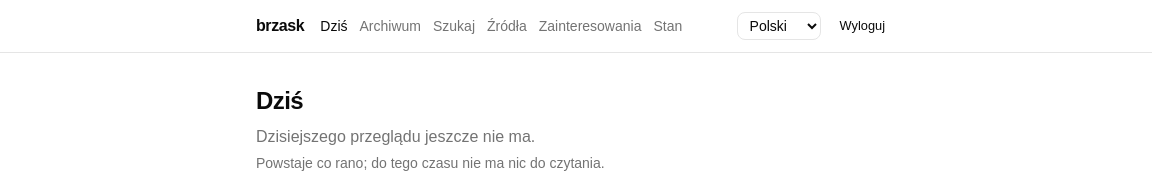
Test: logged in › speaks Polish
Expected: the heading "Dziś" is shown, [256,87,303,114]
Select "English" in the dropdown named "Język": (779, 26) [737,12,821,40]
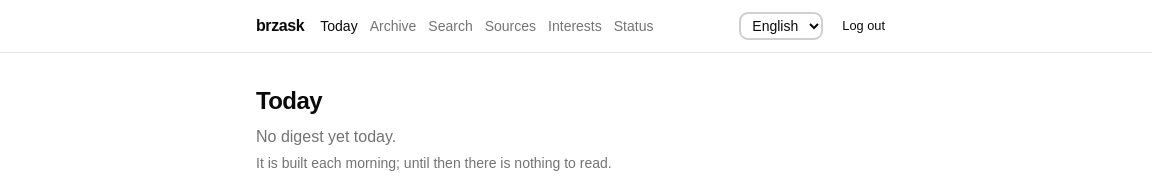
Result: the heading "Today" is shown at [256,87,322,114]
